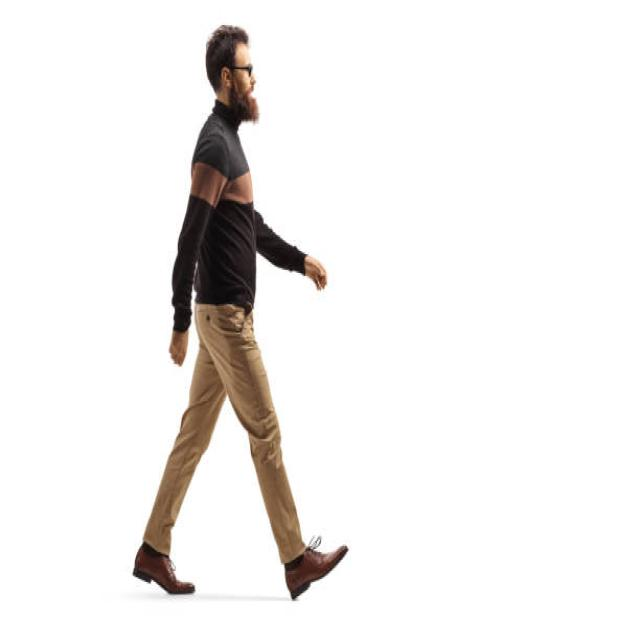Person: (132, 27, 349, 599)
